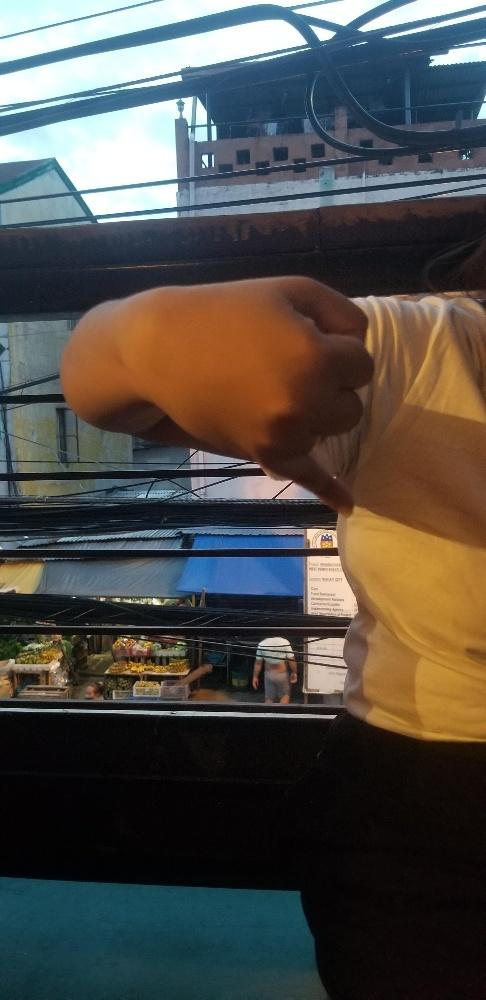j: (123, 273, 380, 520)
